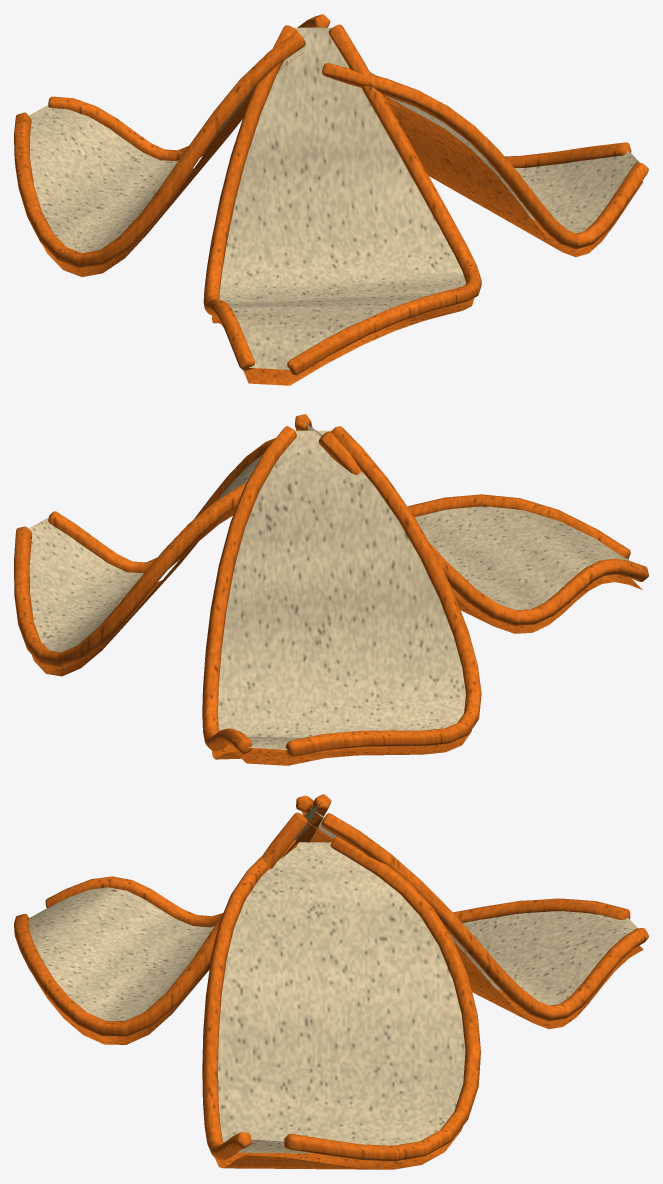
File: food-13-full.glb
3 renders of one model, top to bottom at view 1: azimuth 30°, elevation 25°; view 2: azimuth 150°, elevation 25°; view 3: azimuth 270°, elevation 25°, orthographic.
Visible parts, largest first — view 1: Food; view 2: Food; view 3: Food.
Boxes of the visible parts, left/top/right/bottom form: Food: left=14, top=14, right=648, bottom=385; Food: left=14, top=414, right=648, bottom=765; Food: left=14, top=794, right=648, bottom=1169.
Size of the model in its own units: 0.5771 by 0.2701 by 0.6192.
1 material, 1 textured.
